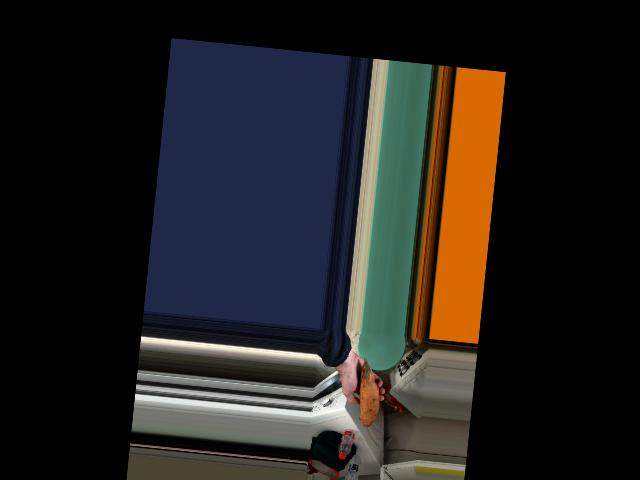sweet_potato: (354, 365, 383, 421)
